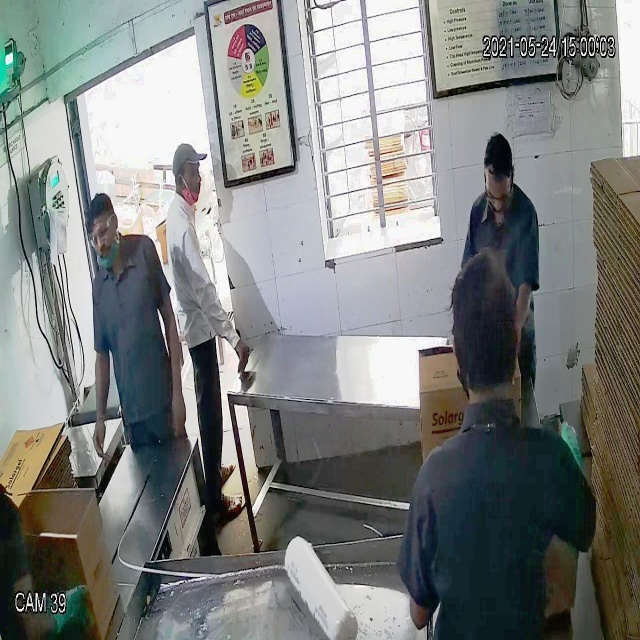Gafas: (82, 220, 118, 251)
